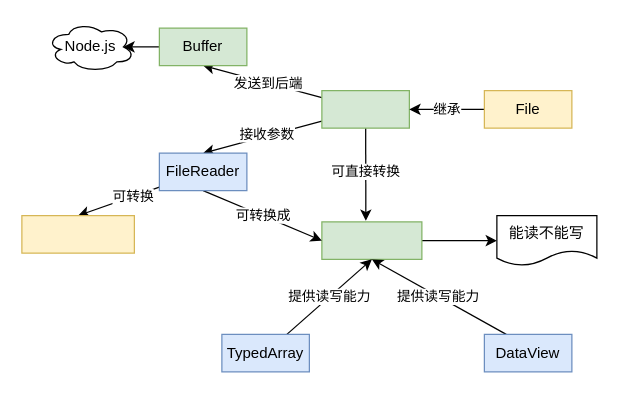
The diagram is 619 pixels wide and 394 high, and some of its shapes have lost their labels. The box of each missing label's shape, as (x1, y1, x2, y2) in pixels:
ArrayBuffer: (321, 221, 422, 259)
Blob: (321, 89, 409, 128)
Text，DataURL: (21, 214, 134, 253)
